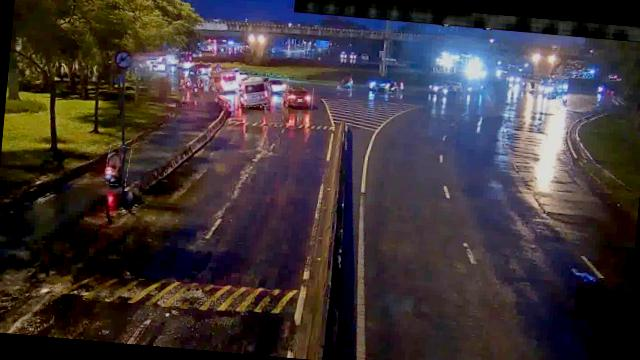Bike: (104, 144, 130, 186)
Bus: (237, 75, 272, 108), (212, 68, 242, 93)
Car: (284, 86, 314, 110), (264, 76, 288, 94)
